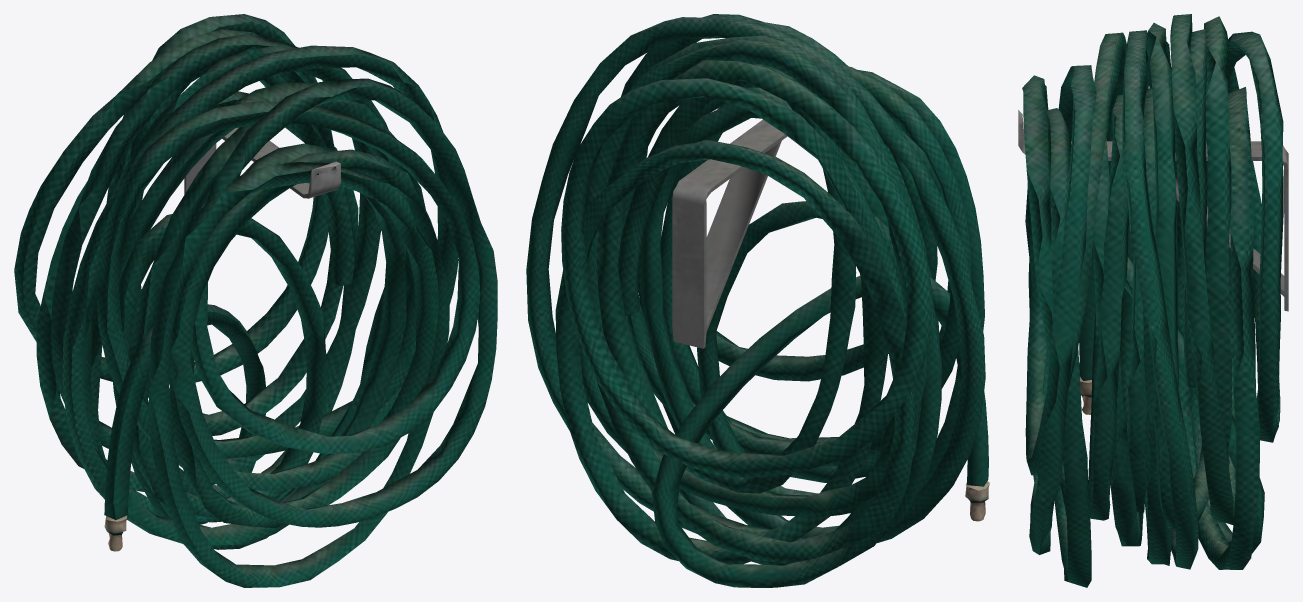
File: hose.glb
3 views of the same model, side by side, from view 1: azimuth 30°, elevation 25°; view 2: azimuth 150°, elevation 25°; view 3: azimuth 270°, elevation 25° (orthographic). The views are drawn at different scales.
Visible parts, largest first — view 1: hose; view 2: hose; view 3: hose.
Boxes of the visible parts, x1,y1,x2,y2 form: hose: (14,14,497,587); hose: (526,14,989,587); hose: (1018,14,1288,587).
Size of the model in its own units: 0.4642 by 0.5533 by 0.2503.
Materials: 1 (1 with a texture image).
